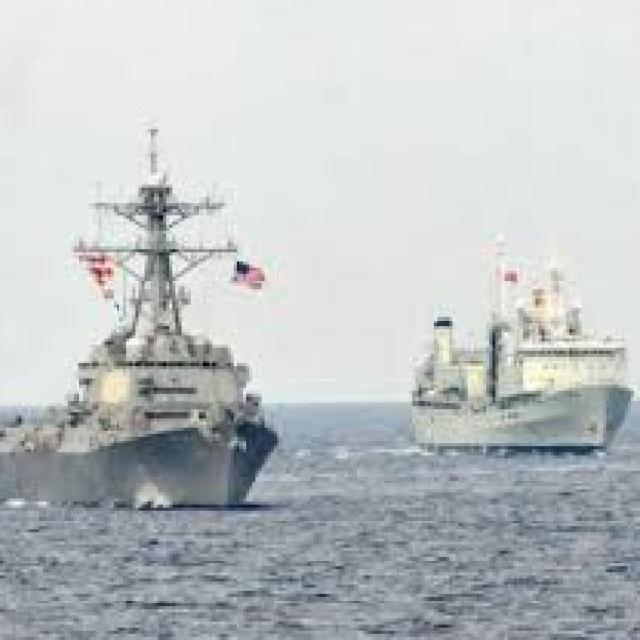navalvessels: (0, 154, 326, 526), (406, 216, 640, 458)
